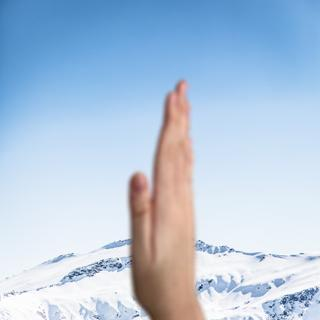Right: (118, 71, 214, 303)
